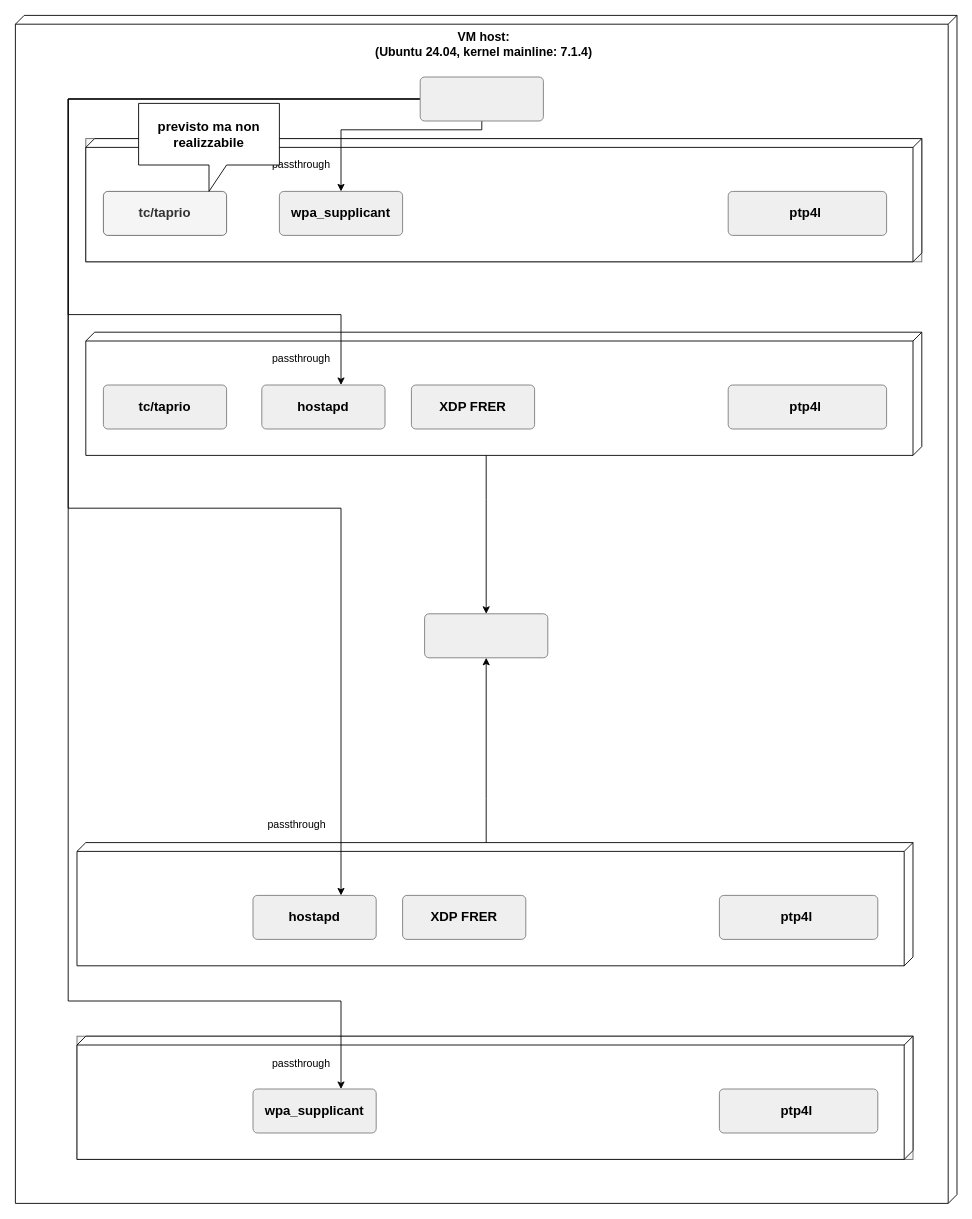
Some shapes in this 972 by 1219 pixel diagram are drawn without their labels. The shapes that lost their labels are listed below. From the top down, each one's box as (x1, y1, x2, y2) in pixels, then its label:
(419, 76, 543, 121): mac80211_hwsim
(85, 138, 922, 262): network namespace: <<talker>>
(85, 331, 922, 455): network namespace : <<bridge-replication>>
(424, 613, 548, 658): veth
(76, 842, 913, 966): network namespace : <<bridge-elimination>>
(76, 1035, 913, 1159): network namespace : <<listener>>
